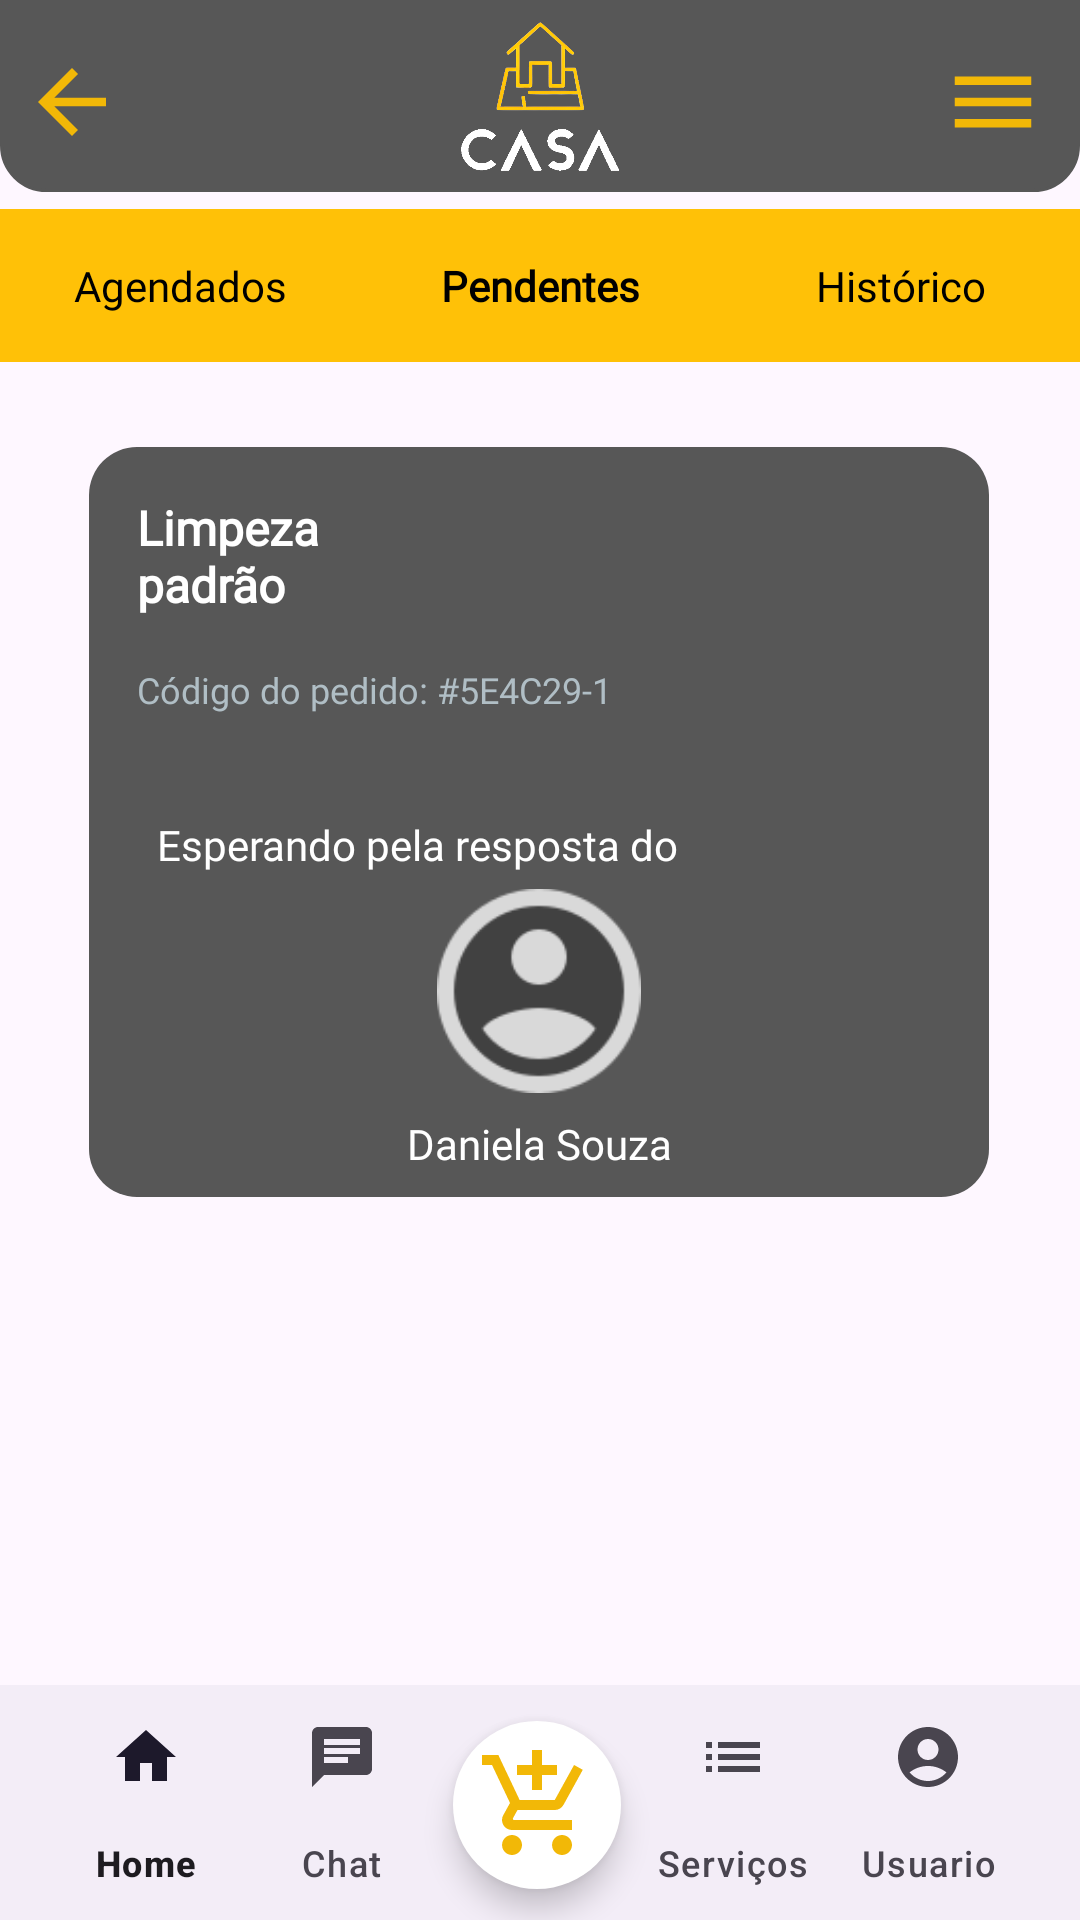

Locate icon controls on the screen. Image size 1080px×1920px, boxes as (x1, y1, x2, y2).
arrow back: (38, 68, 106, 136)
fotodeperfil generica: (437, 889, 641, 1093)
menu: (954, 76, 1032, 128)
